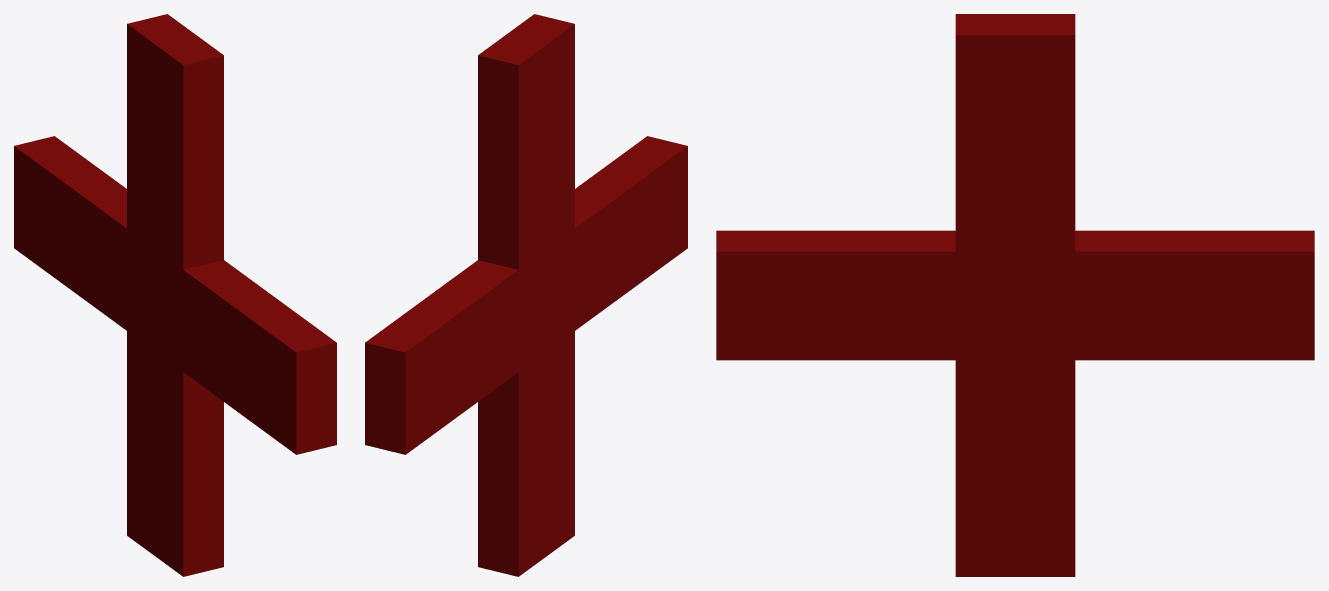
The model's file is healthpickup.obj.
3 views of the same model, side by side, from view 1: azimuth 30°, elevation 25°; view 2: azimuth 150°, elevation 25°; view 3: azimuth 270°, elevation 25° (orthographic). The views are drawn at different scales.
Parts seen in each view (by area): view 1: pCube1; view 2: pCube1; view 3: pCube1.
Part boxes in pixels (bbox=[...]): pCube1: bbox=[14, 14, 336, 576]; pCube1: bbox=[365, 14, 687, 576]; pCube1: bbox=[716, 14, 1314, 576].
Size of the model in its own units: 1.77 by 21.38 by 21.38.
